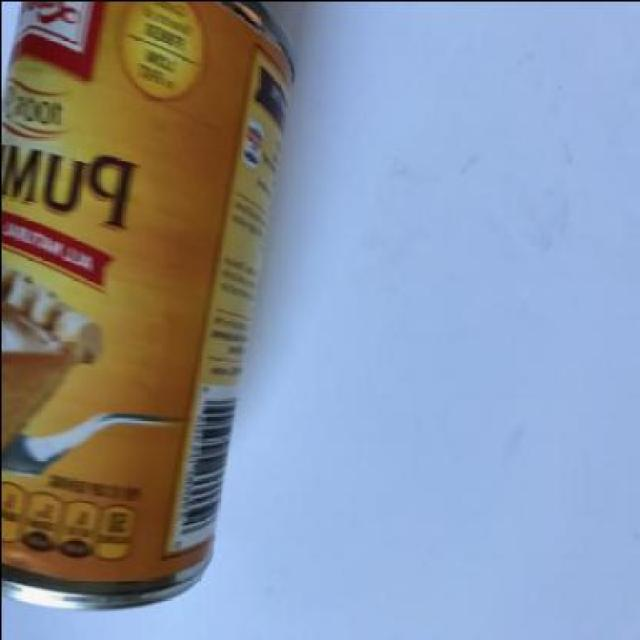METAL: (0, 1, 298, 609)
